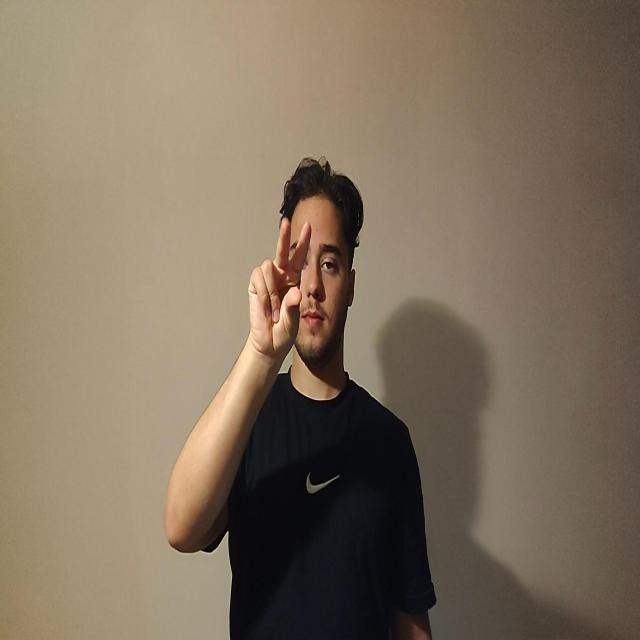no: (247, 215, 312, 362)
